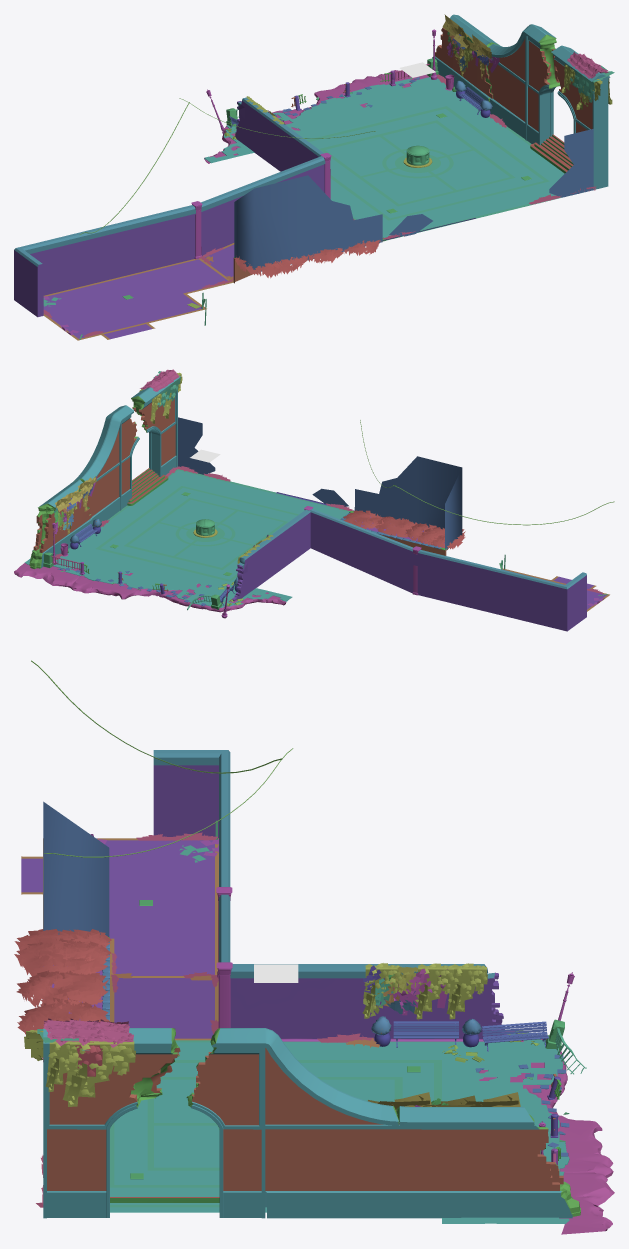
Rendered from Valorant.obj.
3 views of the same model, one above another, from view 1: azimuth 30°, elevation 25°; view 2: azimuth 150°, elevation 25°; view 3: azimuth 270°, elevation 25° (orthographic). The views are drawn at different scales.
Parts seen in each view (by area): view 1: BFloor_4_DefSpawnDestruction_Pastel_Mat.7196, DefBuilding_1_PathFence_Pastel_Mat.7223, Decal_0_AtkLion_Pastel_Mat.7222, DefPathAGround_0_Ramp_Pastel_Mat.7227, DefWall_0_Pastel_Mat.7230, DefWall_0_Pastel_Mat.7231, BFloor_4_DefSpawnDestruction_Pastel_Mat.7195, DefBuilding_1_PathFence_Pastel_Mat.7224, BFloor_4_DefSpawnDestruction_Pastel_Mat.7197, DefPathAGround_0_Ramp_Pastel_Mat.7226, DefWall_0_Pastel_Mat.7232, BFloor_4_DefSpawnStairs_Pastel_Mat.7198 (+2 smaller); view 2: BFloor_4_DefSpawnDestruction_Pastel_Mat.7196, DefBuilding_1_PathFence_Pastel_Mat.7223, Decal_0_AtkLion_Pastel_Mat.7222, DefWall_0_Pastel_Mat.7230, DefWall_0_Pastel_Mat.7231, BFloor_4_DefSpawnDestruction_Pastel_Mat.7195, BFloor_4_DefSpawnDestruction_Pastel_Mat.7197, DefBuilding_1_PathFence_Pastel_Mat.7224, DefWall_0_Pastel_Mat.7232, Grass_1_ClumpCards.002_Pastel_Mat.7284, Grass_1_ClumpCards.003_Pastel_Mat.7284, BFloor_4_DefSpawnStairs_Pastel_Mat.7198 (+3 smaller); view 3: DefWall_0_Pastel_Mat.7231, BFloor_4_DefSpawnDestruction_Pastel_Mat.7196, DefWall_0_Pastel_Mat.7230, DefPathAGround_0_Ramp_Pastel_Mat.7227, DefBuilding_1_PathFence_Pastel_Mat.7223, Decal_0_AtkLion_Pastel_Mat.7222, BFloor_4_DefSpawnDestruction_Pastel_Mat.7197, DefBuilding_1_PathFence_Pastel_Mat.7224, BFloor_4_DefSpawnDestruction_Pastel_Mat.7195, Grass_1_ClumpCards.002_Pastel_Mat.7284, Foliage_9_IvyOverHangA.003_Pastel_Mat.7265, Grass_1_ClumpCards.001_Pastel_Mat.7284 (+13 smaller).
Boxes of the visible parts, <box> form: BFloor_4_DefSpawnDestruction_Pastel_Mat.7196: <box>204,77,564,237</box>; DefBuilding_1_PathFence_Pastel_Mat.7223: <box>14,101,324,317</box>; Decal_0_AtkLion_Pastel_Mat.7222: <box>234,129,593,271</box>; DefPathAGround_0_Ramp_Pastel_Mat.7227: <box>43,244,234,339</box>; DefWall_0_Pastel_Mat.7230: <box>432,14,610,189</box>; DefWall_0_Pastel_Mat.7231: <box>435,28,592,132</box>; BFloor_4_DefSpawnDestruction_Pastel_Mat.7195: <box>306,106,561,241</box>; DefBuilding_1_PathFence_Pastel_Mat.7224: <box>14,97,325,266</box>; BFloor_4_DefSpawnDestruction_Pastel_Mat.7197: <box>204,70,429,163</box>; DefPathAGround_0_Ramp_Pastel_Mat.7226: <box>43,241,381,340</box>; DefWall_0_Pastel_Mat.7232: <box>485,34,560,101</box>; BFloor_4_DefSpawnStairs_Pastel_Mat.7198: <box>530,134,573,171</box>; BFloor_4_DefSpawnDestruction_Pastel_Mat.7196: <box>24,470,349,607</box>; DefBuilding_1_PathFence_Pastel_Mat.7223: <box>231,512,586,631</box>; Decal_0_AtkLion_Pastel_Mat.7222: <box>178,417,462,549</box>; DefWall_0_Pastel_Mat.7230: <box>32,377,179,567</box>; DefWall_0_Pastel_Mat.7231: <box>33,398,175,552</box>; BFloor_4_DefSpawnDestruction_Pastel_Mat.7195: <box>68,469,349,581</box>; BFloor_4_DefSpawnDestruction_Pastel_Mat.7197: <box>14,563,286,612</box>; DefBuilding_1_PathFence_Pastel_Mat.7224: <box>238,509,586,589</box>; DefWall_0_Pastel_Mat.7232: <box>29,396,147,568</box>; Grass_1_ClumpCards.002_Pastel_Mat.7284: <box>375,516,417,537</box>; Grass_1_ClumpCards.003_Pastel_Mat.7284: <box>343,510,386,529</box>; BFloor_4_DefSpawnStairs_Pastel_Mat.7198: <box>127,468,167,503</box>; DefWall_0_Pastel_Mat.7231: <box>47,1047,563,1190</box>; BFloor_4_DefSpawnDestruction_Pastel_Mat.7196: <box>110,1031,569,1223</box>; DefWall_0_Pastel_Mat.7230: <box>43,1028,572,1218</box>; DefPathAGround_0_Ramp_Pastel_Mat.7227: <box>21,840,214,1038</box>; DefBuilding_1_PathFence_Pastel_Mat.7223: <box>153,765,514,1038</box>; Decal_0_AtkLion_Pastel_Mat.7222: <box>43,801,109,936</box>; BFloor_4_DefSpawnDestruction_Pastel_Mat.7197: <box>479,1031,614,1234</box>; DefBuilding_1_PathFence_Pastel_Mat.7224: <box>153,750,494,978</box>; BFloor_4_DefSpawnDestruction_Pastel_Mat.7195: <box>110,1040,509,1207</box>; Grass_1_ClumpCards.002_Pastel_Mat.7284: <box>16,970,108,1011</box>; Foliage_9_IvyOverHangA.003_Pastel_Mat.7265: <box>62,1041,135,1106</box>; Grass_1_ClumpCards.001_Pastel_Mat.7284: <box>14,938,111,976</box>.
Bounding box in the file's own units: 46.53 × 13.04 × 27.24.
